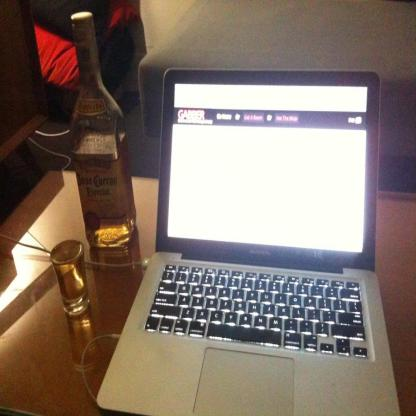board: (97, 65, 401, 416), (71, 10, 138, 247)
